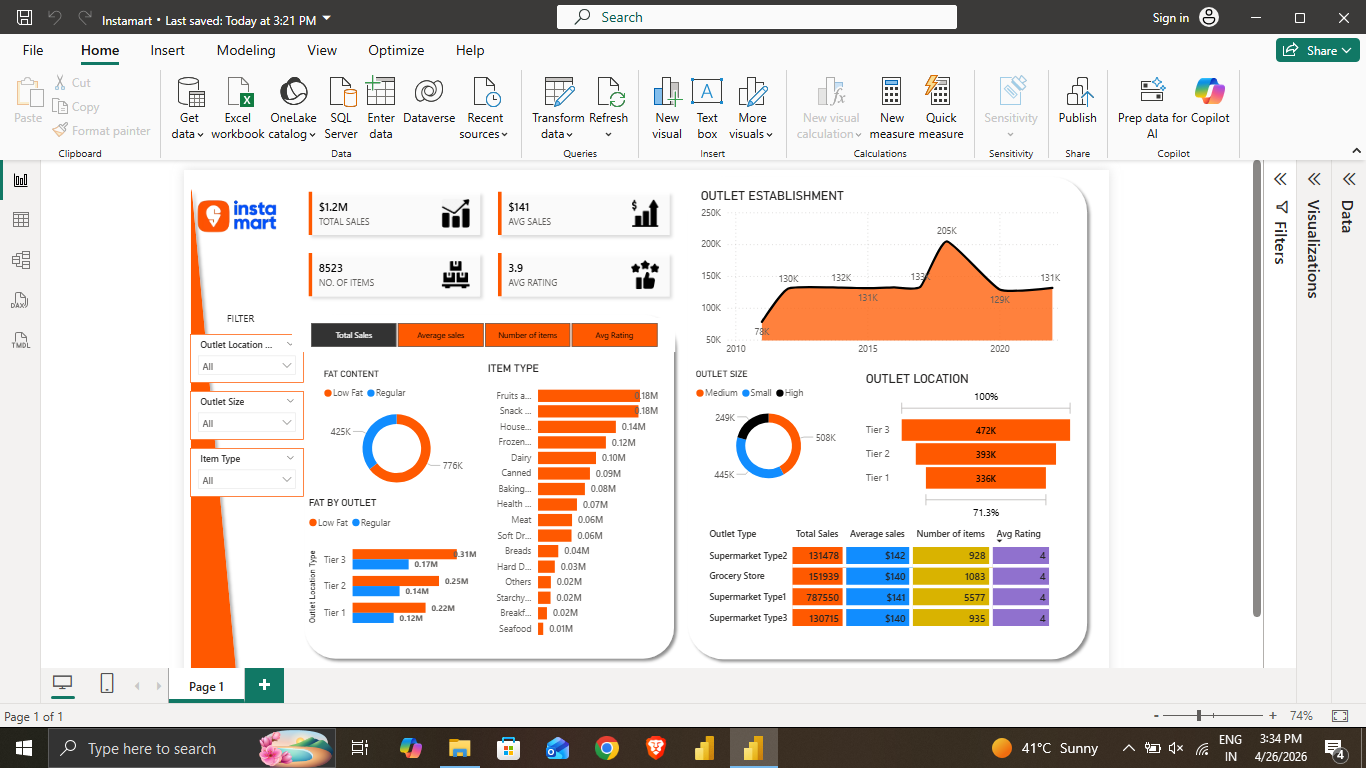

The page's visual inventory and layout, read from the dashboard file:
{"tool":"powerbi","page":{"name":"Page 1","canvas":[1250,750],"ordinal":0},"visuals":[{"type":"shape","box":[0,0,145,1400],"z":0},{"type":"cardVisual","fields":{"Data":["Sum(BlinkIT Grocery Data.Sales)","BlinkIT Grocery Data.Average sales","BlinkIT Grocery Data.Number of items","BlinkIT Grocery Data.Avg Rating"]},"box":[138.6,0,547.4,200],"z":1000},{"type":"image","box":[8,17,128,97],"z":2000},{"type":"slicer","fields":{"Values":["BlinkIT Grocery Data.Outlet Location Type"]},"box":[8,222,154,66],"z":3000},{"type":"slicer","fields":{"Values":["BlinkIT Grocery Data.Outlet Size"]},"box":[8,299,154,66],"z":4000},{"type":"shape","box":[671.9,0,557.9,670.2],"z":5000},{"type":"slicer","fields":{"Values":["BlinkIT Grocery Data.Item Type"]},"box":[8,376,154,66],"z":6000},{"type":"lineChart","title":"OUTLET ESTABLISHMENT","fields":{"Y":["BlinkIT Grocery Data.Total Sales"],"Category":["BlinkIT Grocery Data.Outlet Establishment Year"]},"box":[693,24.6,498.2,235.1],"z":7000},{"type":"donutChart","title":"OUTLET SIZE","fields":{"Y":["BlinkIT Grocery Data.Total Sales"],"Category":["BlinkIT Grocery Data.Outlet Size"]},"box":[686,268.4,207,166.7],"z":8000},{"type":"funnel","title":"OUTLET LOCATION","fields":{"Y":["BlinkIT Grocery Data.Total Sales"],"Category":["BlinkIT Grocery Data.Outlet Location Type"]},"box":[915.8,271.9,291.2,205.3],"z":9000},{"type":"pivotTable","fields":{"Rows":["BlinkIT Grocery Data.Outlet Type"],"Values":["BlinkIT Grocery Data.Total Sales","BlinkIT Grocery Data.Average sales","BlinkIT Grocery Data.Number of items","BlinkIT Grocery Data.Avg Rating"]},"box":[700,473.7,494.7,159.6],"z":10000},{"type":"shape","box":[154.3,187.1,517.1,482.9],"z":14000},{"type":"slicer","title":"FAT OUTLET","fields":{"Values":["Metrics.Metrics"]},"box":[145.6,200,517.5,45.6],"z":15000},{"type":"donutChart","title":" FAT CONTENT","fields":{"Y":["BlinkIT Grocery Data.Total Sales"],"Category":["BlinkIT Grocery Data.Item Fat Content"]},"box":[184.2,268.4,207,173.7],"z":15500},{"type":"clusteredBarChart","title":"FAT BY OUTLET","fields":{"Y":["BlinkIT Grocery Data.Total Sales"],"Category":["BlinkIT Grocery Data.Outlet Location Type"],"Series":["BlinkIT Grocery Data.Item Fat Content"]},"box":[163.2,442.1,236.8,191.2],"z":16000},{"type":"barChart","title":"ITEM TYPE","fields":{"Y":["BlinkIT Grocery Data.Total Sales"],"Category":["BlinkIT Grocery Data.Item Type"]},"box":[405.3,259.6,240.4,382.5],"z":16500},{"type":"textbox","box":[52.9,187.1,84.3,27.1],"z":16501}]}

Visuals, with their boxes on the page's 1250x750 design canvas (x1, y1, x2, y2). These are canvas units, not pixel positions in the 1366x768 screenshot, which may show the page scaled, cropped or inside an application window:
shape: x1=0 y1=0 x2=145 y2=1400
cardVisual - Sum(BlinkIT Grocery Data.Sales) x BlinkIT Grocery Data.Average sales: x1=139 y1=0 x2=686 y2=200
image: x1=8 y1=17 x2=136 y2=114
slicer - BlinkIT Grocery Data.Outlet Location Type: x1=8 y1=222 x2=162 y2=288
slicer - BlinkIT Grocery Data.Outlet Size: x1=8 y1=299 x2=162 y2=365
shape: x1=672 y1=0 x2=1230 y2=670
slicer - BlinkIT Grocery Data.Item Type: x1=8 y1=376 x2=162 y2=442
"OUTLET ESTABLISHMENT" lineChart: x1=693 y1=25 x2=1191 y2=260
"OUTLET SIZE" donutChart: x1=686 y1=268 x2=893 y2=435
"OUTLET LOCATION" funnel: x1=916 y1=272 x2=1207 y2=477
pivotTable - BlinkIT Grocery Data.Outlet Type x BlinkIT Grocery Data.Total Sales: x1=700 y1=474 x2=1195 y2=633
shape: x1=154 y1=187 x2=671 y2=670
"FAT OUTLET" slicer: x1=146 y1=200 x2=663 y2=246
" FAT CONTENT" donutChart: x1=184 y1=268 x2=391 y2=442
"FAT BY OUTLET" clusteredBarChart: x1=163 y1=442 x2=400 y2=633
"ITEM TYPE" barChart: x1=405 y1=260 x2=646 y2=642
textbox: x1=53 y1=187 x2=137 y2=214
